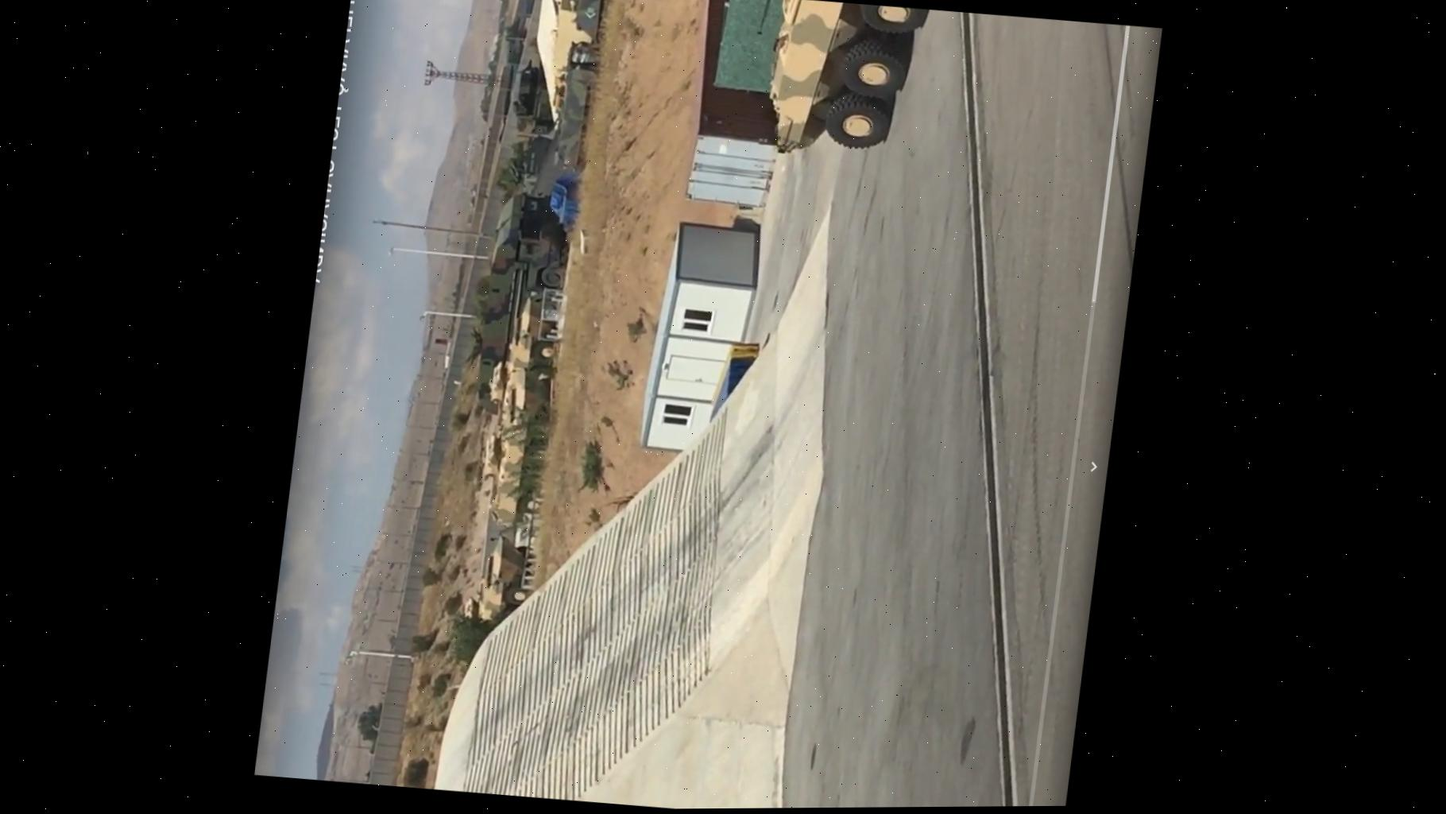armored_car: (689, 0, 943, 172)
